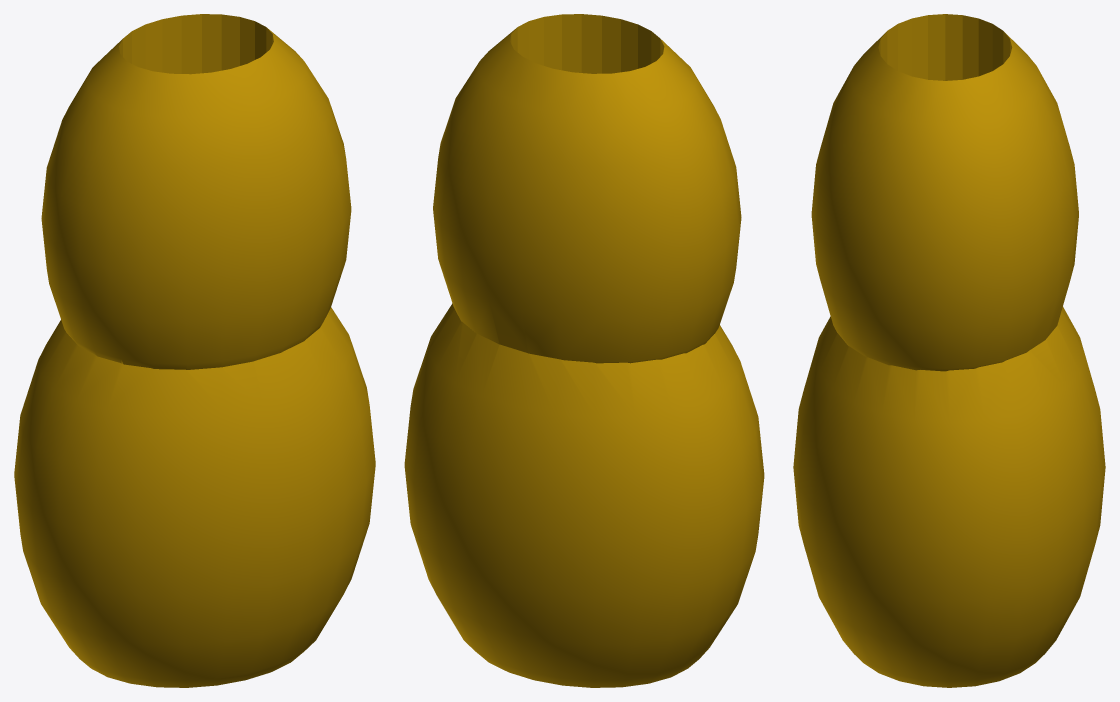
File: vase2.dae
3 views of the same model, side by side, from view 1: azimuth 30°, elevation 25°; view 2: azimuth 150°, elevation 25°; view 3: azimuth 270°, elevation 25° (orthographic).
Parts seen in each view (by area): view 1: instance_0; view 2: instance_0; view 3: instance_0.
Boxes of the visible parts, x1,y1,x2,y2 form: instance_0: [14, 14, 375, 687]; instance_0: [404, 14, 764, 687]; instance_0: [793, 14, 1105, 687].
Bounding box in the file's own units: 0.1207 × 0.1019 × 0.2126.
